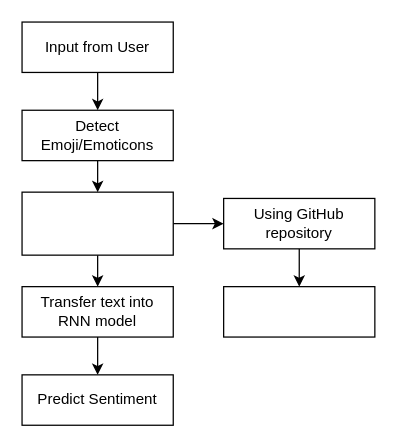
Image size: 397x447. Some labels were removed from this diagram. The shapes that lost their labels are listed below. From the top down, each one's centre as x and y in pixels, then its label:
At point 97,223: "Convert Emoji/Emoticons into Text".
At point 298,311: "UNICODE Dictionary".
